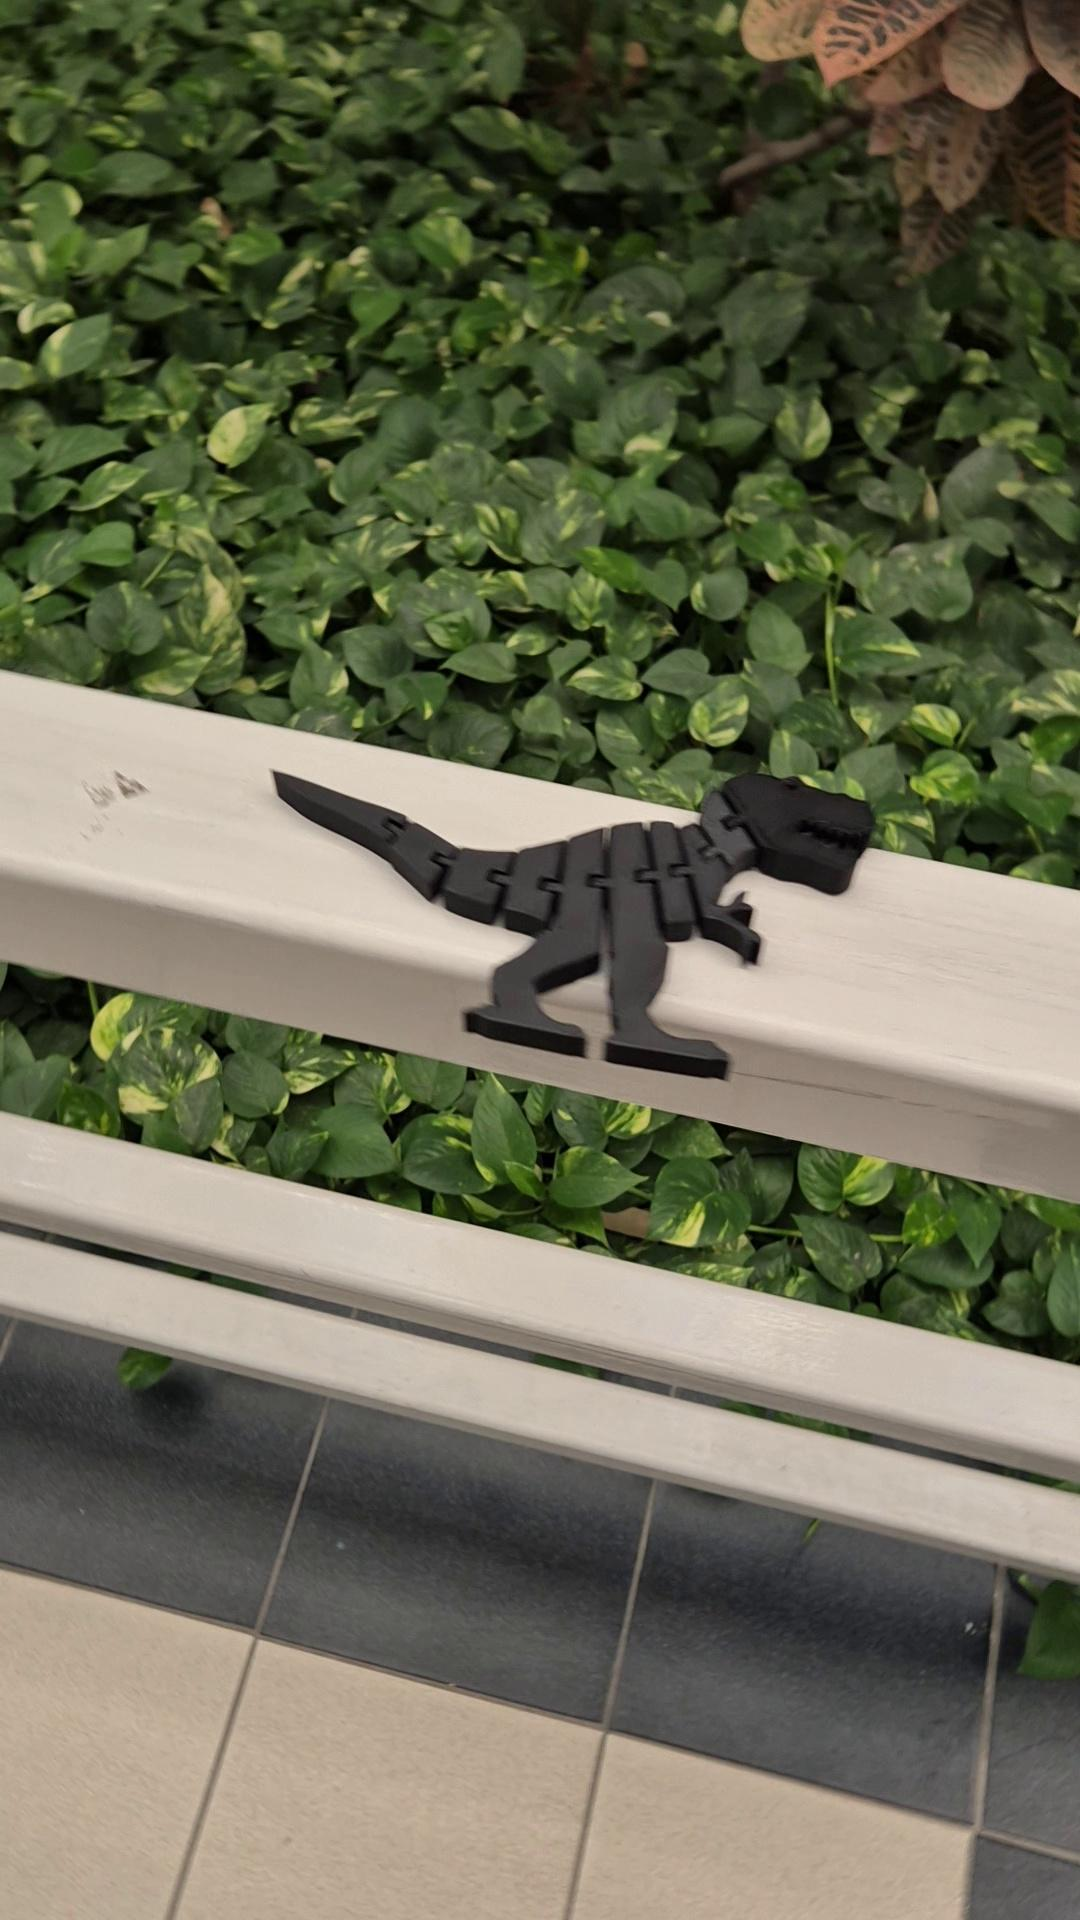dinosaur: (266, 766, 878, 1085)
